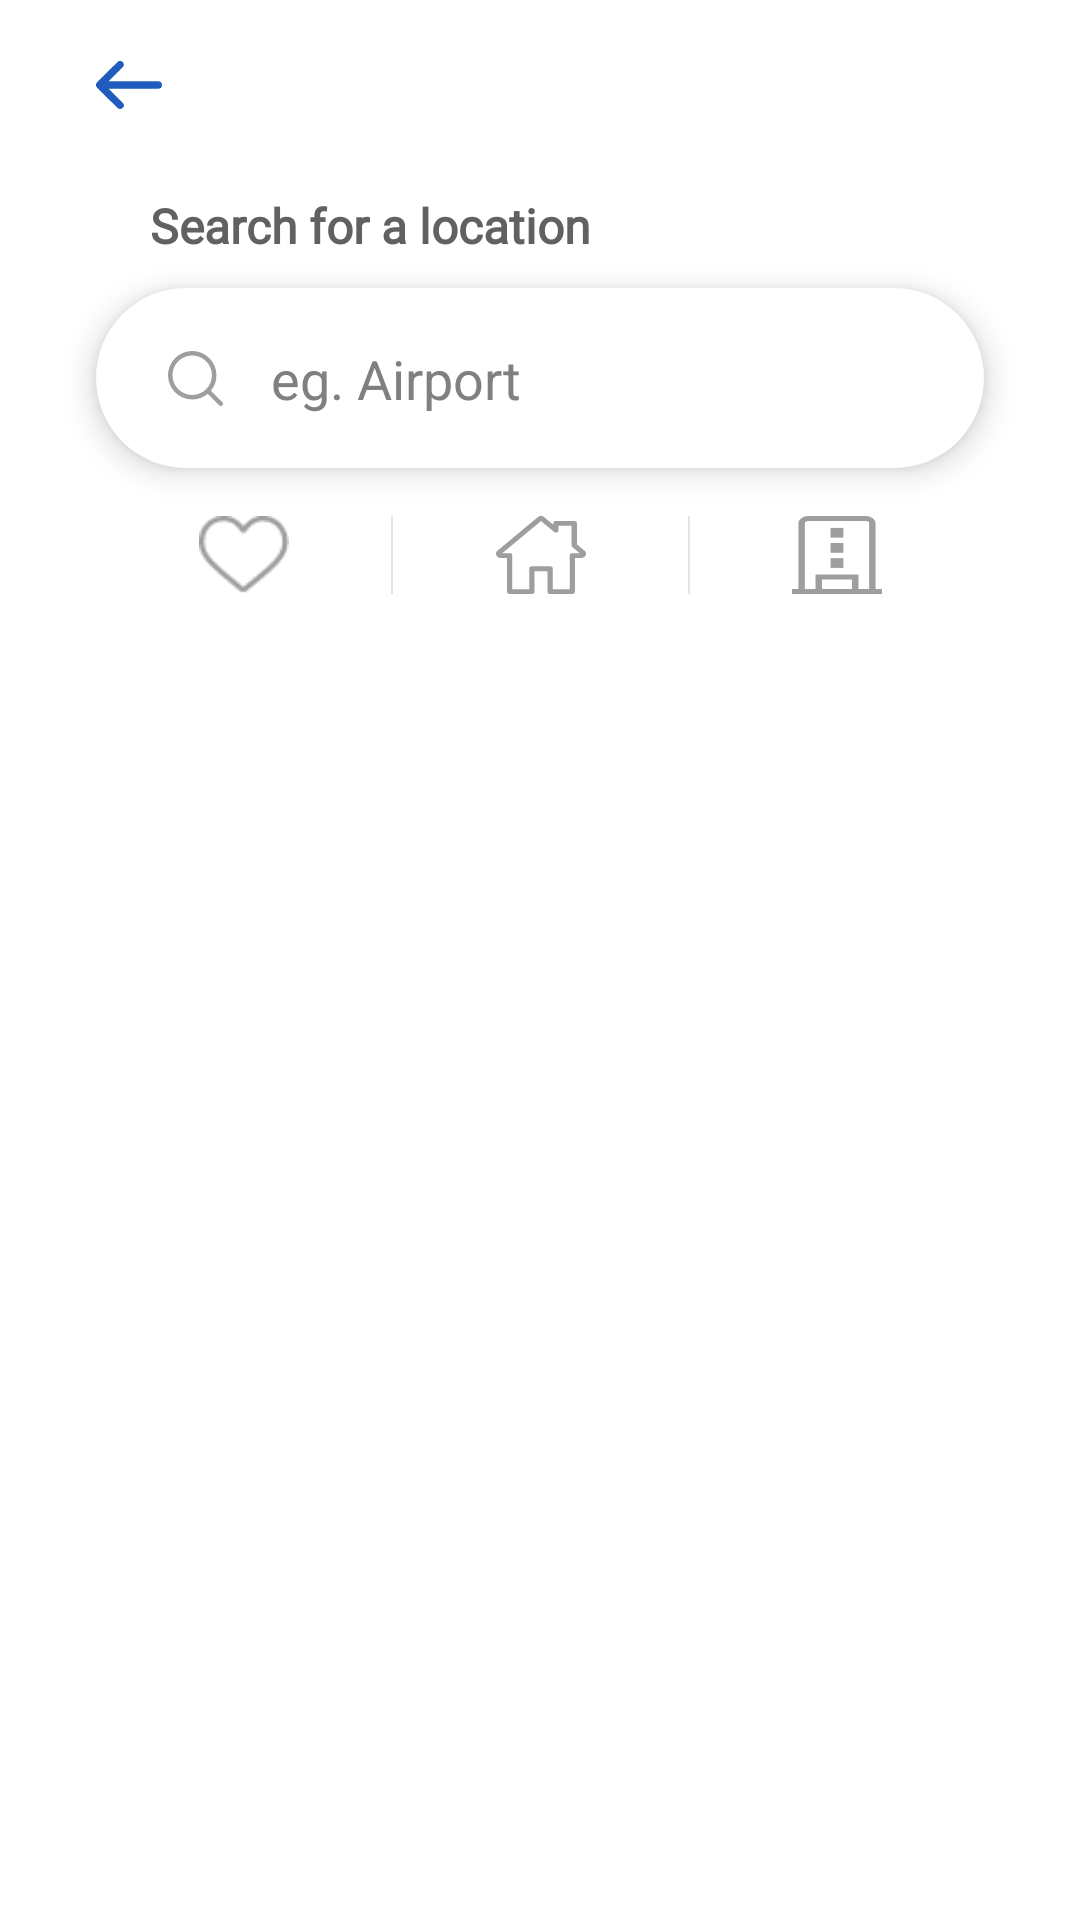

Screen size 1080w x 1920h. Icon name, then its center in pixels as (x,y):
back: (129,85)
